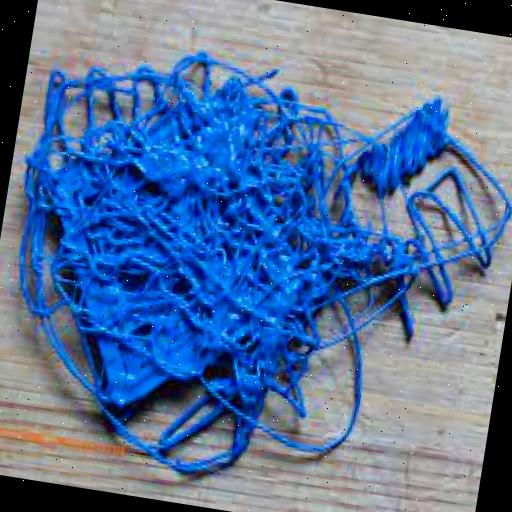spaghetti: (2, 2, 472, 484)
